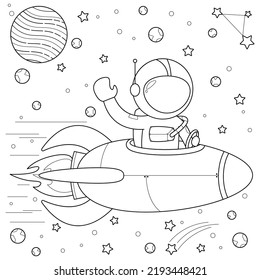roket: (11, 124, 256, 228)
